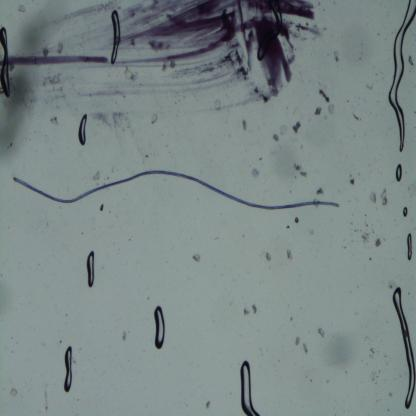Air bubble: (388, 0, 416, 154), (391, 286, 416, 409), (239, 359, 262, 415), (0, 25, 12, 99), (109, 10, 121, 64), (153, 305, 165, 349), (64, 344, 72, 394), (86, 250, 96, 288), (78, 115, 87, 146), (394, 160, 404, 184), (406, 233, 414, 262), (402, 206, 408, 219)
Background material: (0, 76, 37, 160), (316, 331, 357, 371), (90, 106, 134, 138), (352, 224, 371, 244), (377, 184, 391, 207), (116, 324, 128, 344), (45, 112, 60, 128), (317, 88, 331, 103), (370, 368, 380, 386), (239, 115, 249, 132), (285, 247, 295, 262), (366, 345, 376, 360), (368, 188, 376, 205), (90, 169, 102, 180), (364, 79, 374, 92), (150, 113, 160, 126), (407, 52, 415, 68), (9, 385, 18, 399), (293, 122, 302, 136), (314, 185, 324, 197), (241, 305, 251, 317), (278, 123, 288, 135), (192, 252, 202, 264), (264, 249, 273, 262), (272, 133, 282, 144), (250, 168, 260, 179), (318, 327, 326, 340), (328, 104, 336, 117), (315, 104, 323, 117), (302, 341, 309, 355), (98, 200, 105, 214), (334, 52, 342, 64), (351, 111, 359, 123), (293, 162, 302, 172), (252, 302, 258, 316), (375, 236, 382, 248), (299, 170, 309, 178), (284, 222, 292, 231), (294, 336, 301, 346), (349, 178, 356, 186), (366, 253, 373, 261), (205, 401, 213, 408), (294, 217, 300, 226)
Microfibre: (10, 168, 341, 213)
Pen: (9, 0, 318, 97)
